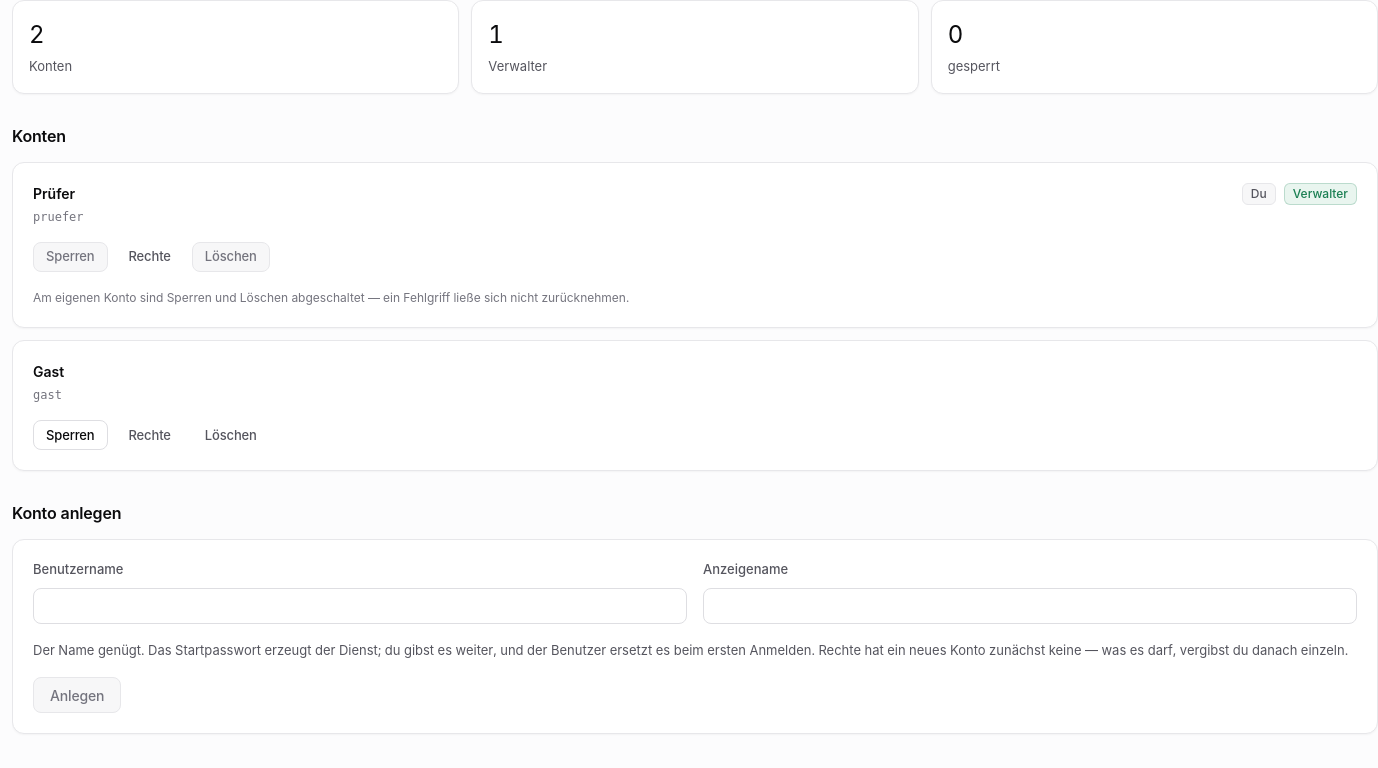
Test: Verwaltungsseite › Passwort zuruecksetzen › zeigt den Fehler des Backends, statt ihn zu verschlucken
Click the button with aria-label "Rechte von gast": (150, 435) [116,420,184,450]
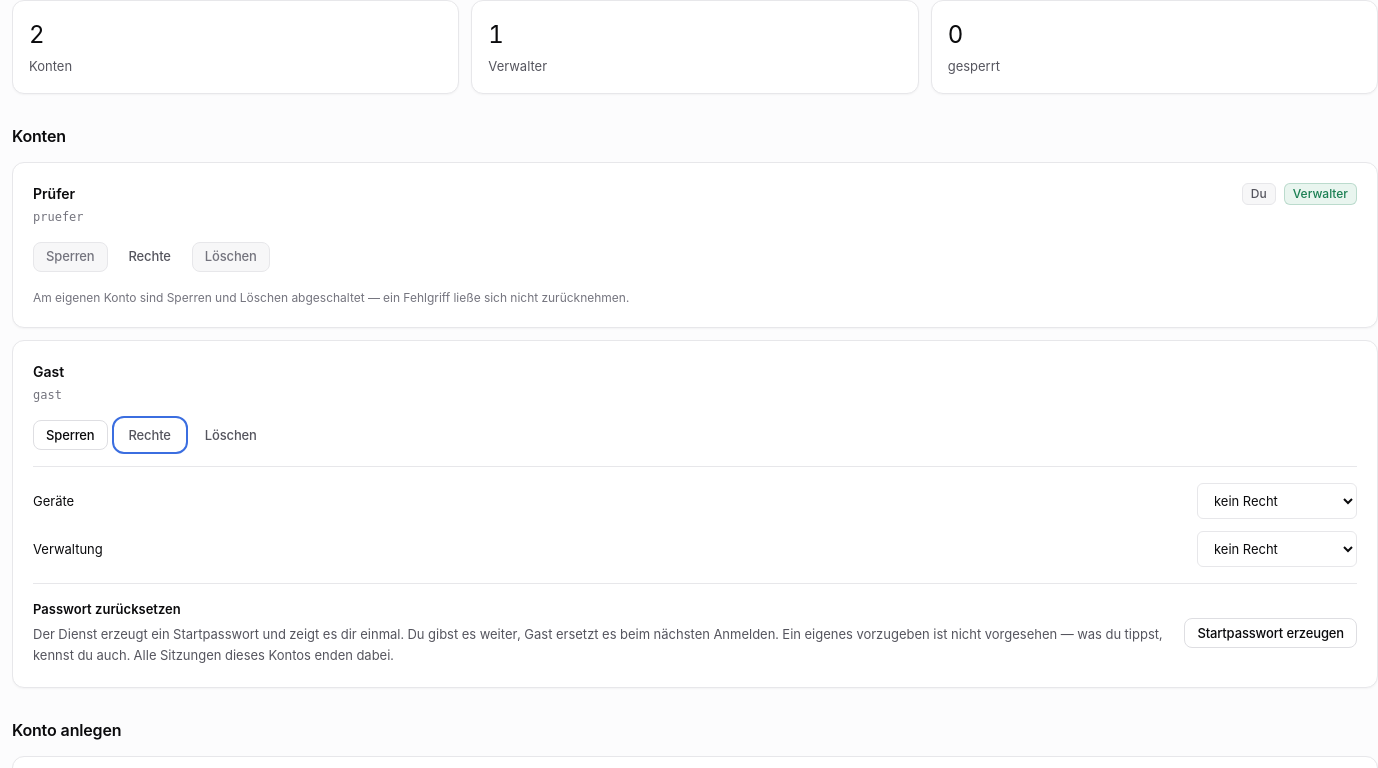
Click the button with aria-label "Passwort von gast zurücksetzen": (1271, 634) [1184,618,1357,648]
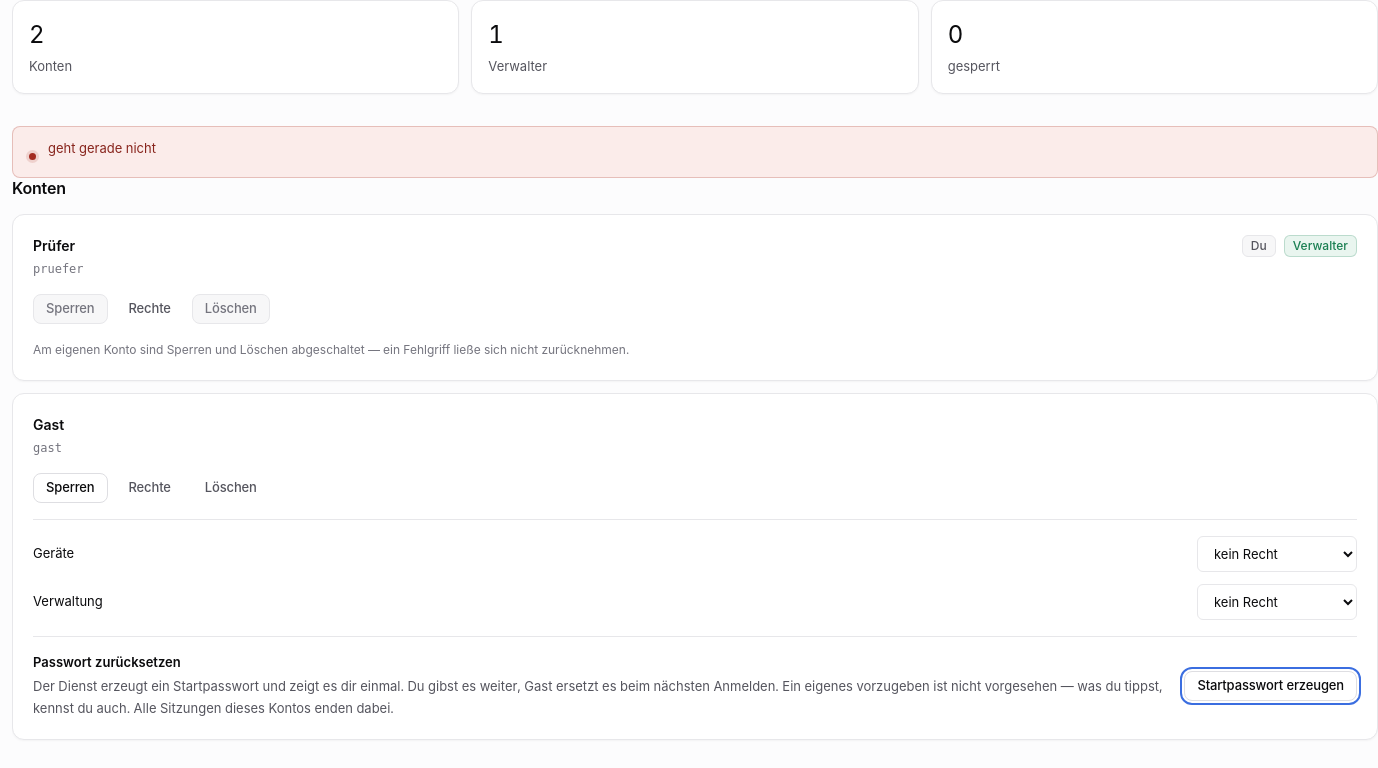
Result: the message reads "geht gerade nicht" at [48,140,156,156]
